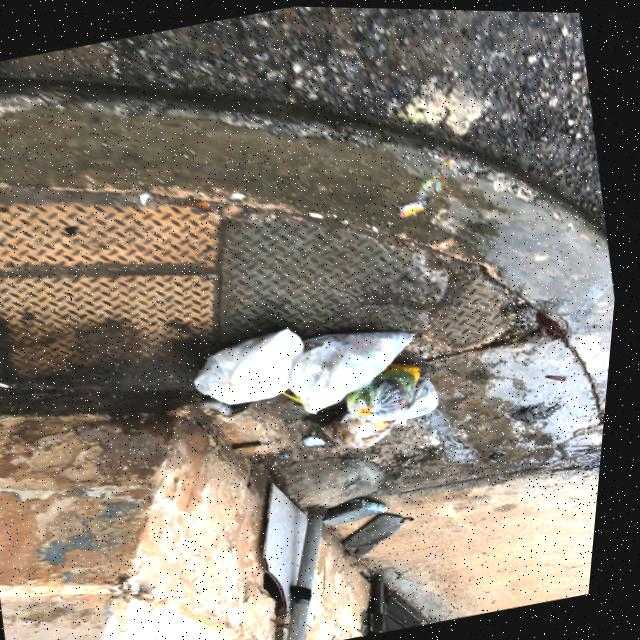Organic Waste -White Bag-: (288, 314, 435, 417), (191, 321, 324, 413), (347, 354, 451, 426), (324, 395, 414, 454)
Other: (349, 505, 425, 557), (324, 490, 406, 530)
